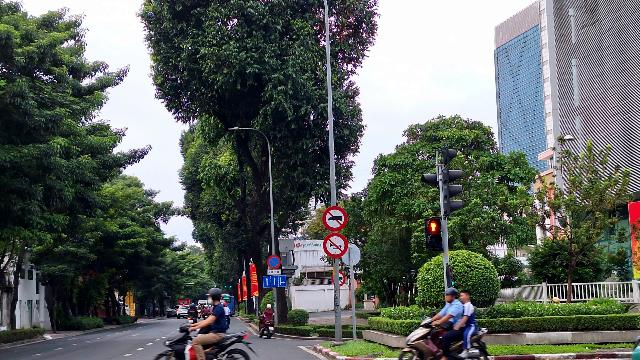cam-bop-coi: (323, 232, 348, 258)
cam-do-xe: (267, 255, 282, 269)
